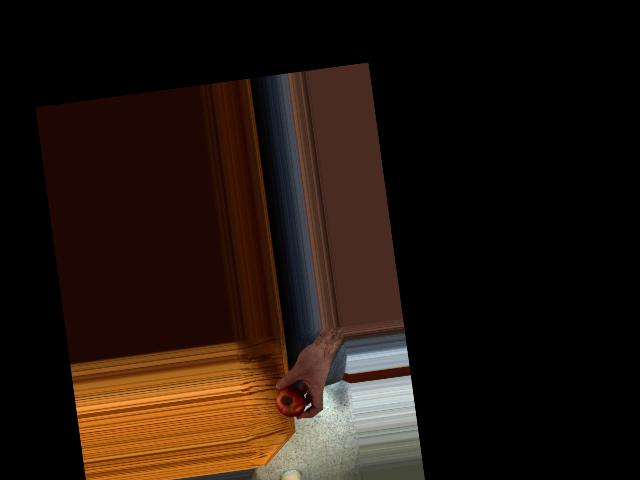apple: (270, 375, 313, 421)
